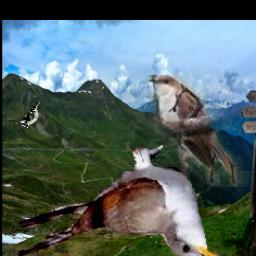Cuckoo: (18, 146, 220, 256), (149, 75, 248, 187)
Woodpecker: (18, 101, 47, 128)
